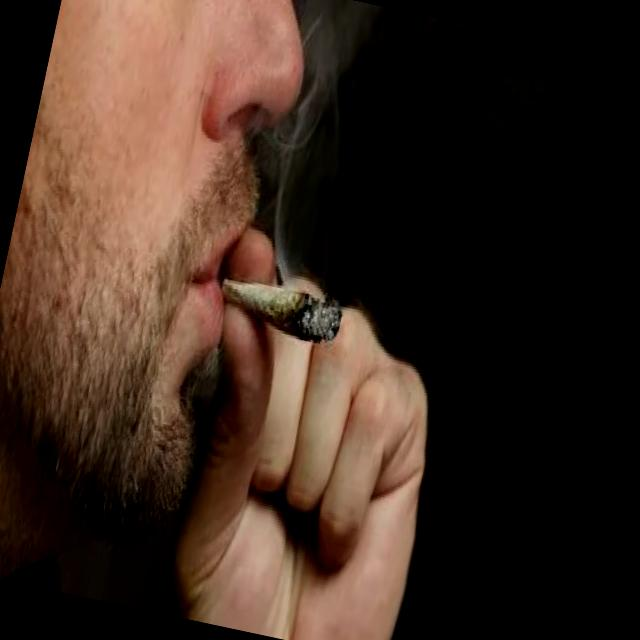cigarette: (208, 264, 350, 356)
